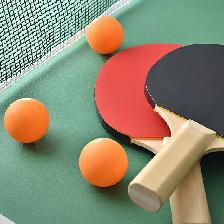YellowBall: (78, 136, 127, 186), (3, 98, 49, 143), (85, 15, 123, 53)
